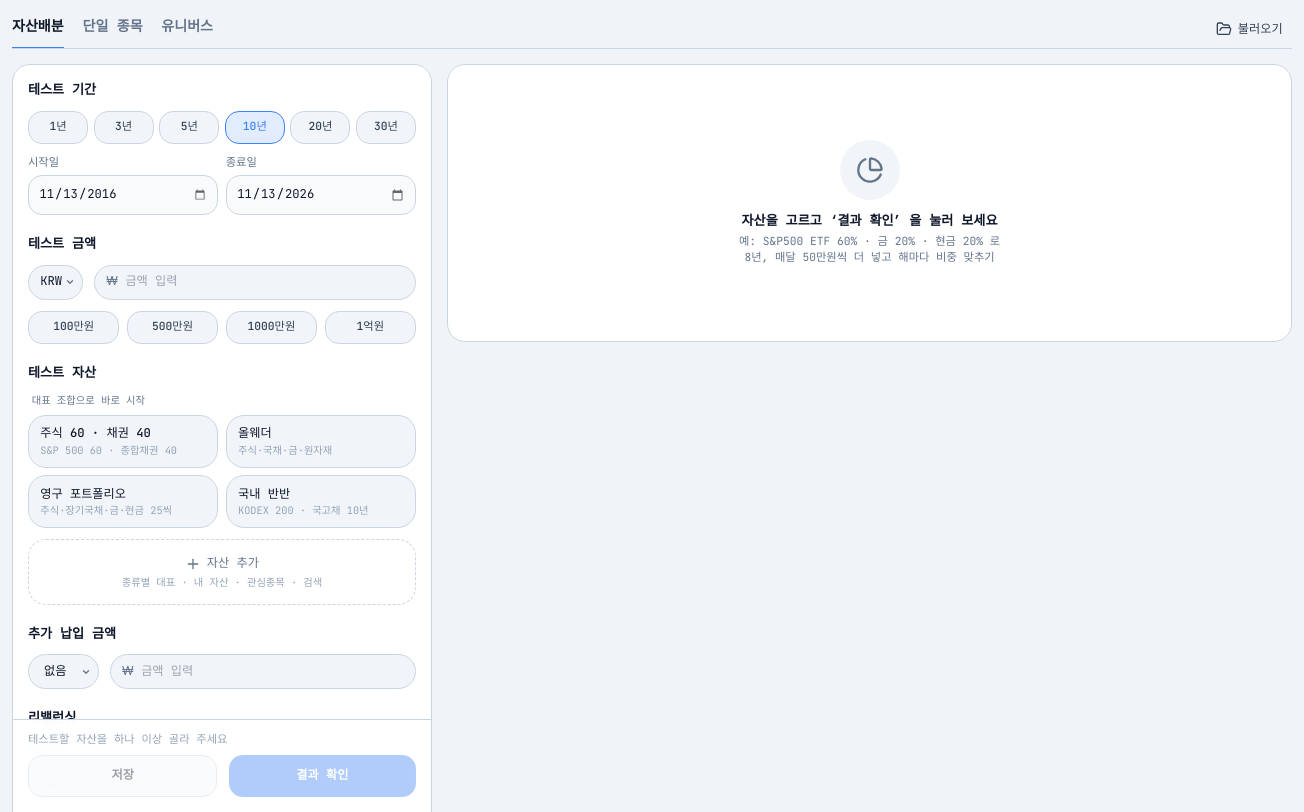
7) 단일 종목은 이름으로 찾는다 › 검색을 닫으면 고른 종목이 그대로다
This screenshot has width=1304, height=812.
Click the tab "단일 종목" at (113, 30), box [82, 12, 143, 49]
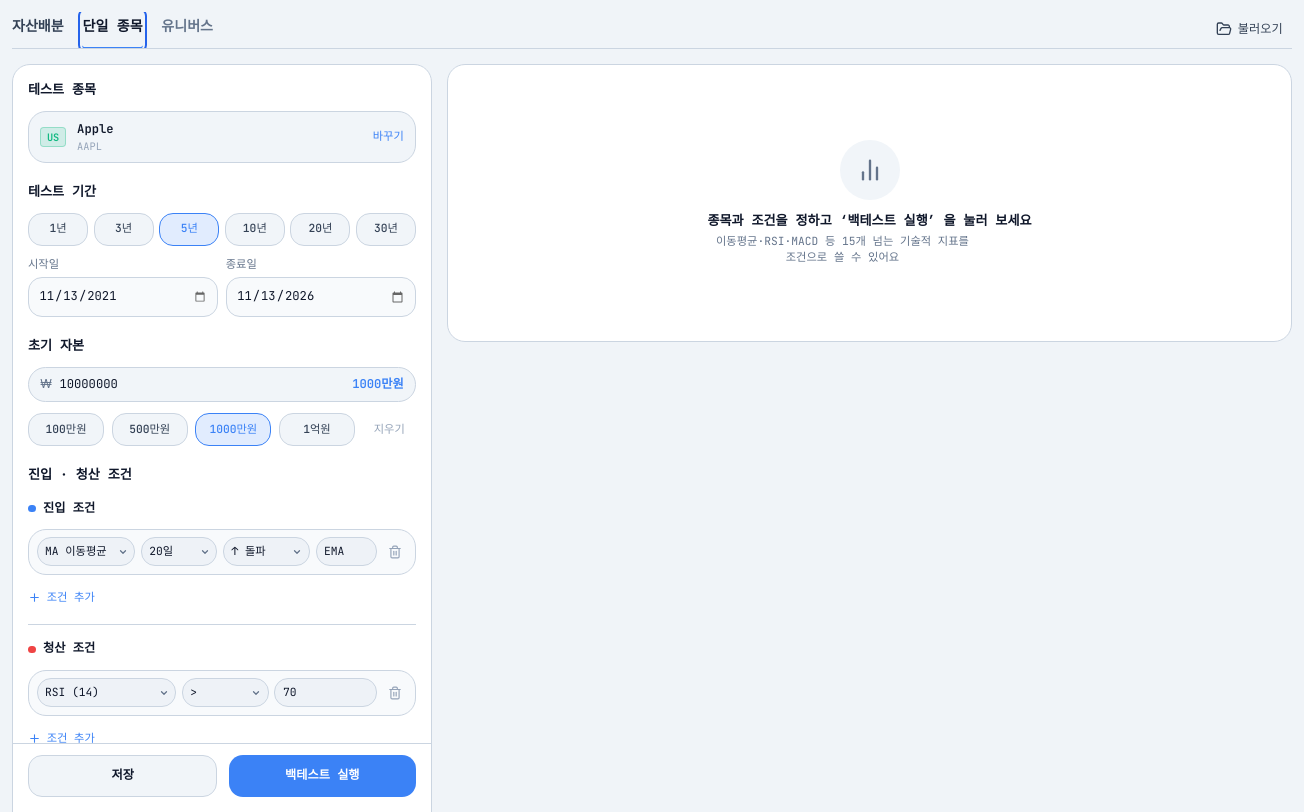
Click the button with aria-label "테스트 종목 Apple 바꾸기" at (95, 129), box [28, 111, 416, 163]
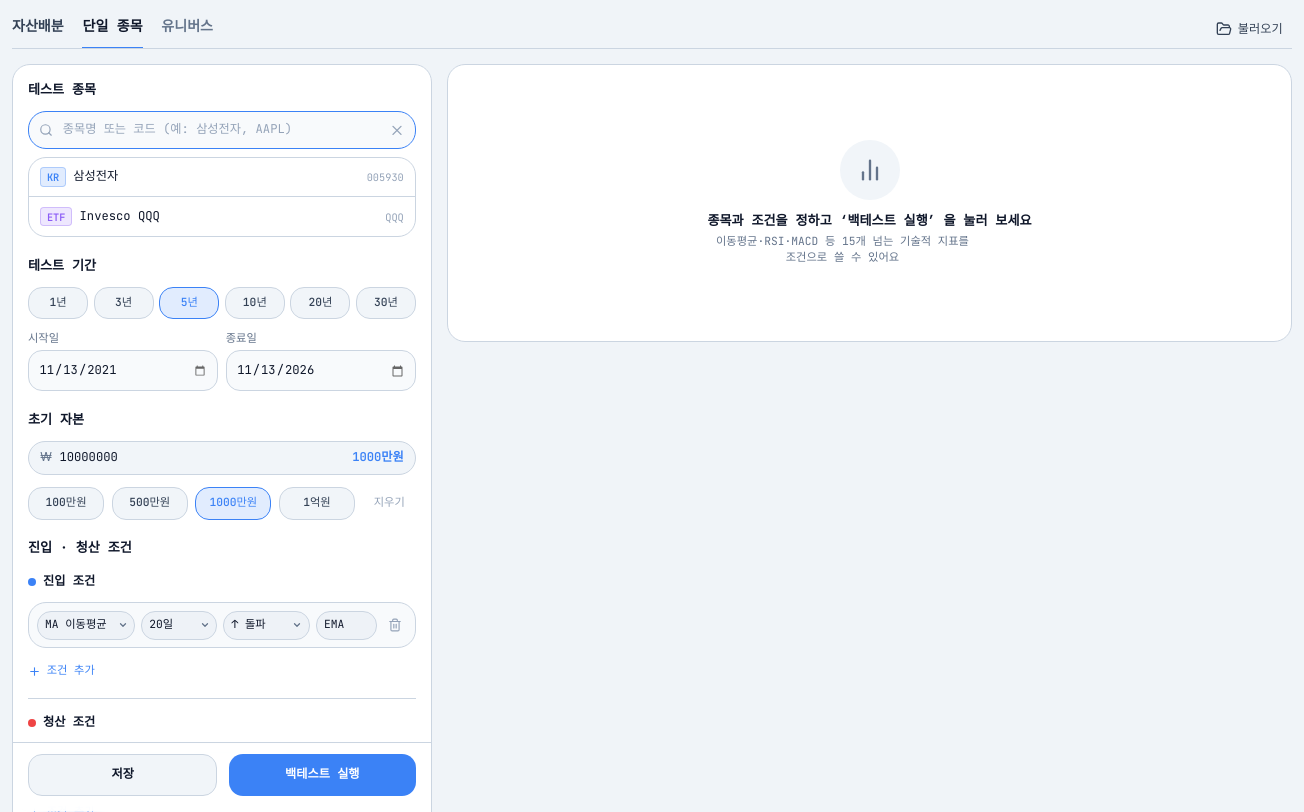
Expected: the search field named "종목 검색" is shown, [28, 111, 416, 149]
Click the button named "검색 닫기" at (397, 130), box [383, 116, 410, 144]
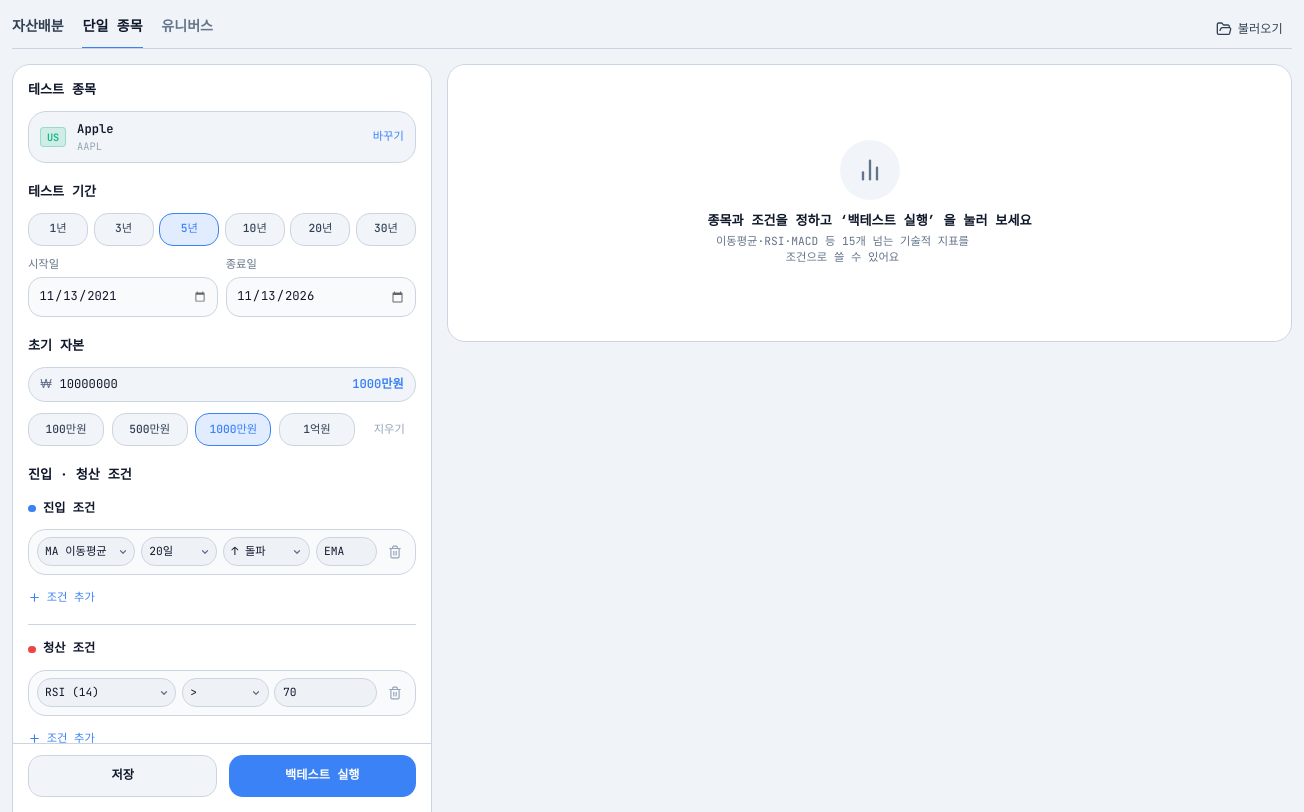
Expected: the button with aria-label "테스트 종목 Apple 바꾸기" is shown, [28, 111, 416, 163]
